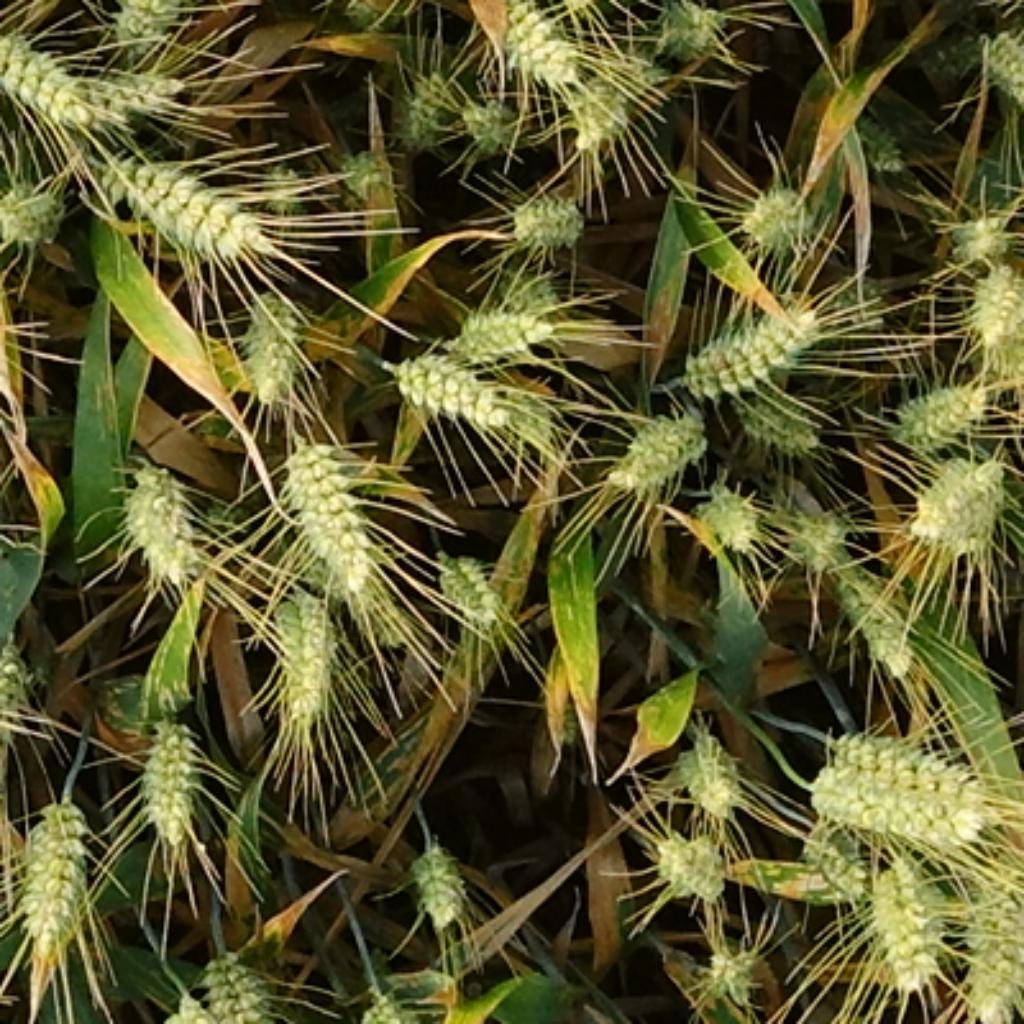0-0: (94, 138, 279, 263), (5, 788, 98, 995), (673, 284, 832, 399), (273, 430, 386, 591), (826, 714, 1016, 798), (806, 760, 995, 844), (0, 10, 128, 130), (389, 340, 542, 430), (110, 448, 209, 578), (811, 545, 926, 655), (33, 48, 189, 128), (857, 849, 949, 983), (903, 442, 1013, 547), (263, 578, 345, 716), (606, 400, 711, 497), (189, 924, 289, 1021), (134, 714, 208, 845), (954, 253, 1024, 391), (234, 291, 313, 406), (826, 81, 919, 176), (560, 46, 647, 145), (445, 302, 558, 376), (888, 363, 988, 442), (668, 716, 750, 811), (729, 373, 824, 450), (491, 0, 583, 79), (647, 816, 734, 896), (737, 166, 821, 248), (399, 829, 471, 921), (430, 540, 506, 624), (791, 811, 870, 890), (501, 176, 591, 245), (494, 261, 581, 332), (391, 58, 463, 143), (691, 926, 768, 1000), (0, 166, 71, 240), (691, 473, 762, 547), (780, 496, 849, 565), (965, 20, 1024, 99), (104, 0, 217, 40), (645, 0, 724, 56), (458, 84, 527, 148), (330, 133, 396, 199), (258, 158, 312, 238), (355, 586, 417, 655), (942, 197, 1011, 258), (0, 624, 26, 743), (0, 962, 2, 1021)
